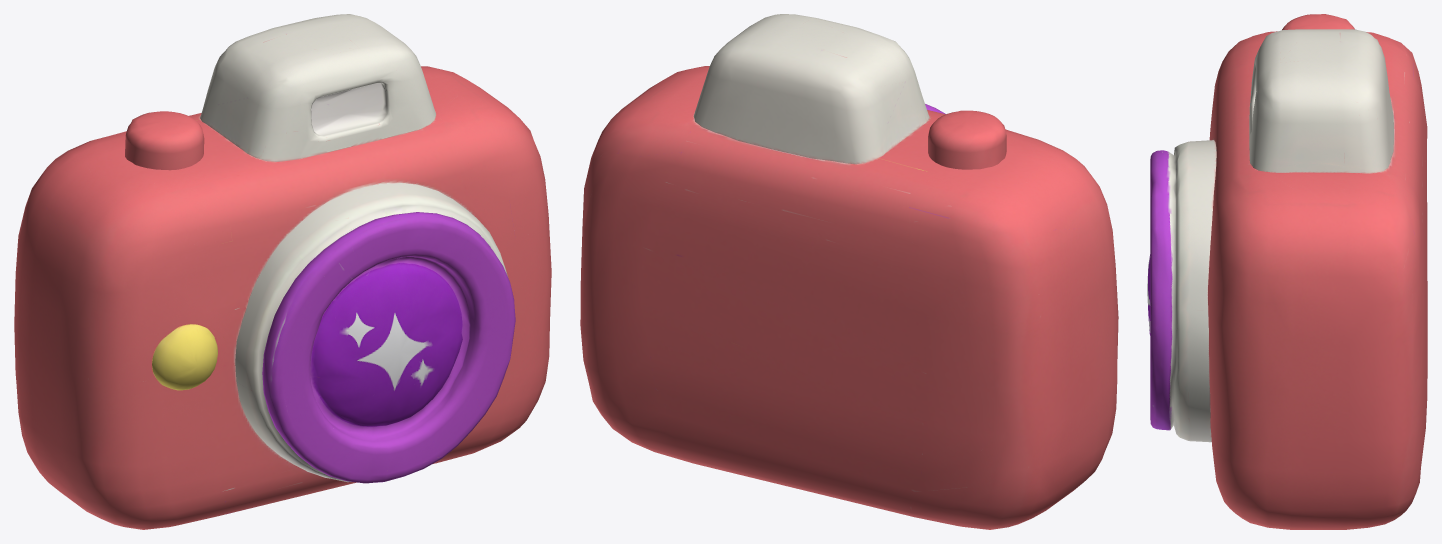
File: camera.glb
3 views of the same model, side by side, from view 1: azimuth 30°, elevation 25°; view 2: azimuth 150°, elevation 25°; view 3: azimuth 270°, elevation 25° (orthographic). The views are drawn at different scales.
Bounding box in the file's own units: 0.957 × 0.8203 × 0.5039.
Materials: 1 (1 with a texture image).
